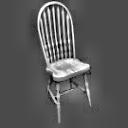chair_success: (21, 0, 101, 125)
